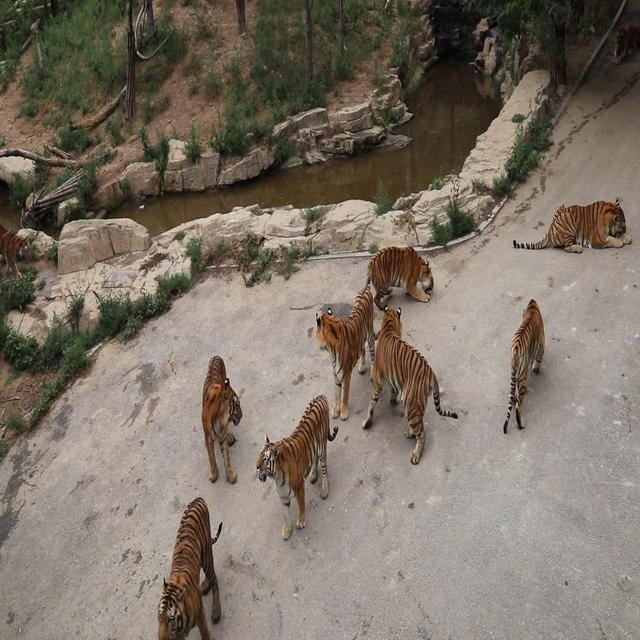tiger: (361, 305, 458, 464), (255, 393, 338, 540), (156, 496, 222, 639), (314, 277, 375, 420), (512, 196, 632, 253), (502, 298, 545, 433), (201, 354, 242, 484), (365, 244, 433, 310), (0, 223, 27, 277)
